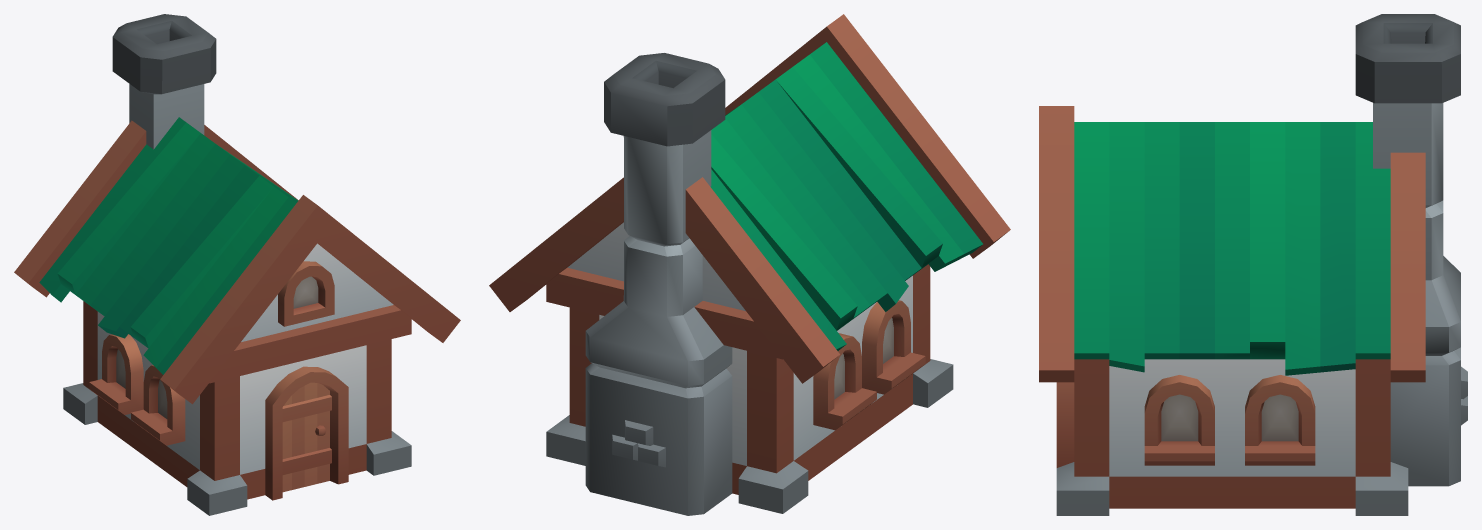
The model's file is task-building.glb.
3 renders of one model, left to right at view 1: azimuth 30°, elevation 25°; view 2: azimuth 150°, elevation 25°; view 3: azimuth 270°, elevation 25°, orthographic. The views are drawn at different scales.
Parts seen in each view (by area): view 1: building_home_A_green; view 2: building_home_A_green; view 3: building_home_A_green.
Boxes of the visible parts, x1,y1,x2,y2 form: building_home_A_green: [14, 14, 460, 515]; building_home_A_green: [489, 14, 1010, 515]; building_home_A_green: [1039, 14, 1467, 515].
Size of the model in its own units: 0.7919 by 0.93 by 0.8537.
Materials: 1 (1 with a texture image).
